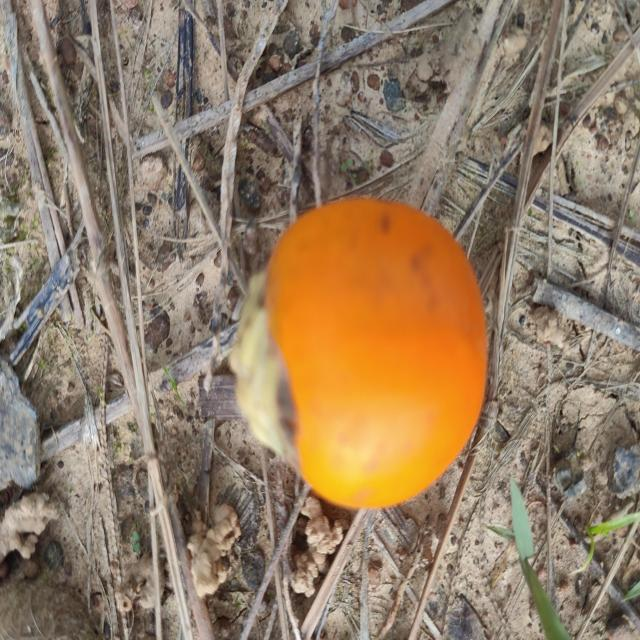good: (229, 196, 489, 513)
